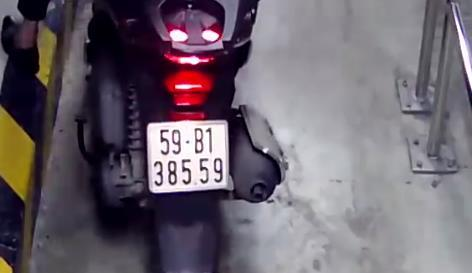lisence: (146, 120, 230, 194)
